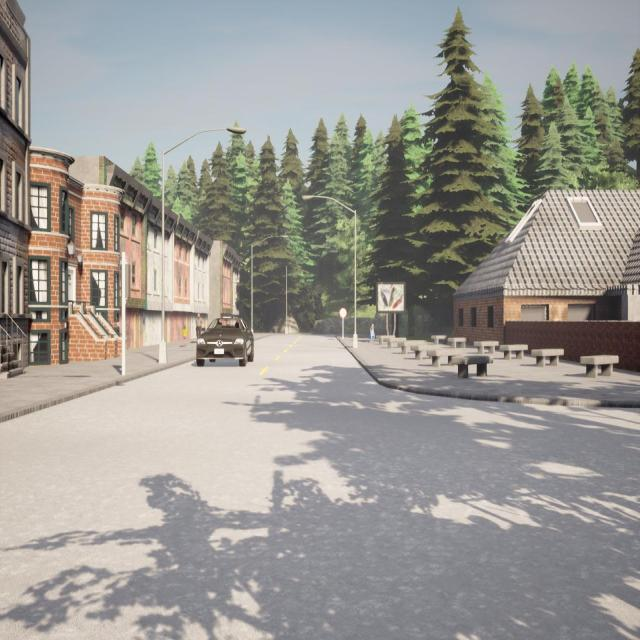Pedestrian: (196, 312, 203, 341), (181, 324, 189, 348), (368, 322, 376, 343)
Traffic_Signs: (339, 307, 347, 318)
Vehicle: (196, 315, 254, 366)
traffic_light: (120, 265, 132, 299)
